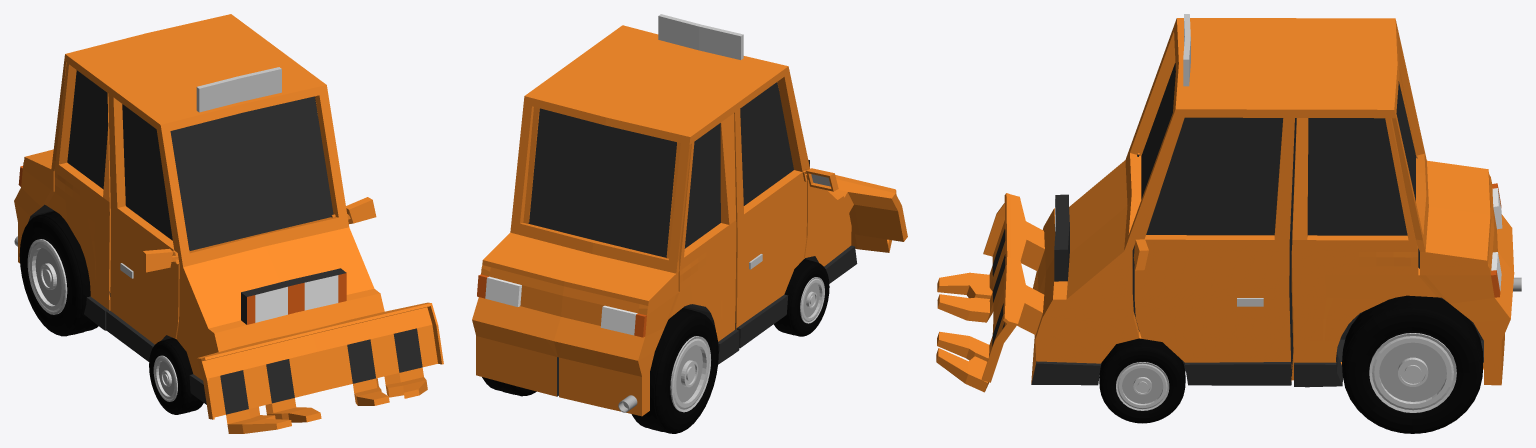
The picture shows the model from 3 angles, left to right: view 1: azimuth 30°, elevation 25°; view 2: azimuth 150°, elevation 25°; view 3: azimuth 270°, elevation 25°; orthographic projection. The views are drawn at different scales.
Parts seen in each view (by area): view 1: BODY27, WHEEL.002, WHEEL.001; view 2: BODY27, WHEEL.002, WHEEL.001, WHEEL.004; view 3: BODY27, WHEEL.004, WHEEL.003.
Part boxes in pixels (box(x1,y1,x2,y2)): BODY27: box(14, 14, 443, 433); WHEEL.002: box(19, 211, 98, 336); WHEEL.001: box(149, 338, 203, 414); BODY27: box(472, 14, 907, 416); WHEEL.002: box(631, 308, 718, 433); WHEEL.001: box(773, 259, 829, 336); WHEEL.004: box(482, 377, 536, 396); BODY27: box(936, 14, 1514, 392); WHEEL.004: box(1342, 295, 1483, 433); WHEEL.003: box(1099, 338, 1185, 423).
Bounding box in the file's own units: 136 × 174 × 265.
